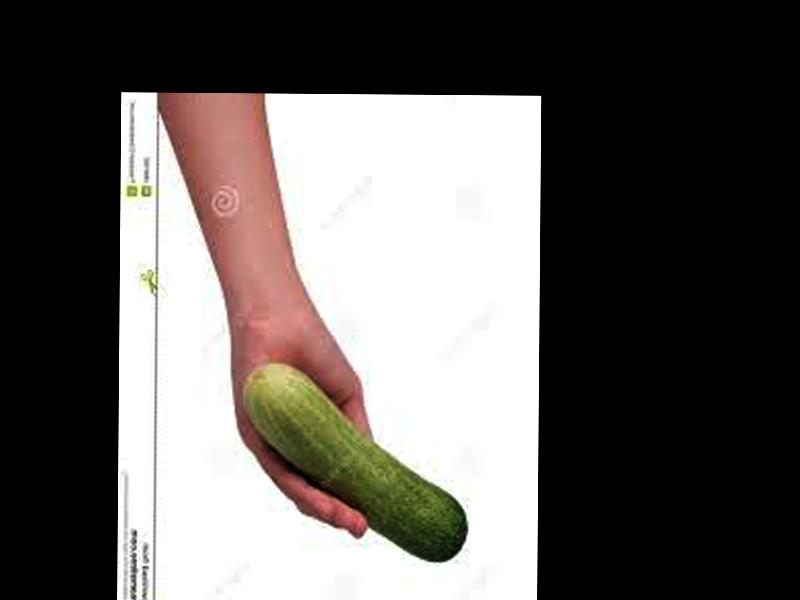Cucumber: (243, 362, 466, 559)
